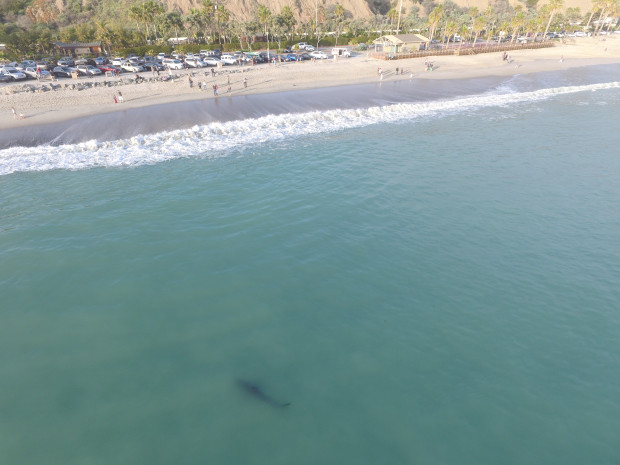shark: (225, 371, 293, 421)
